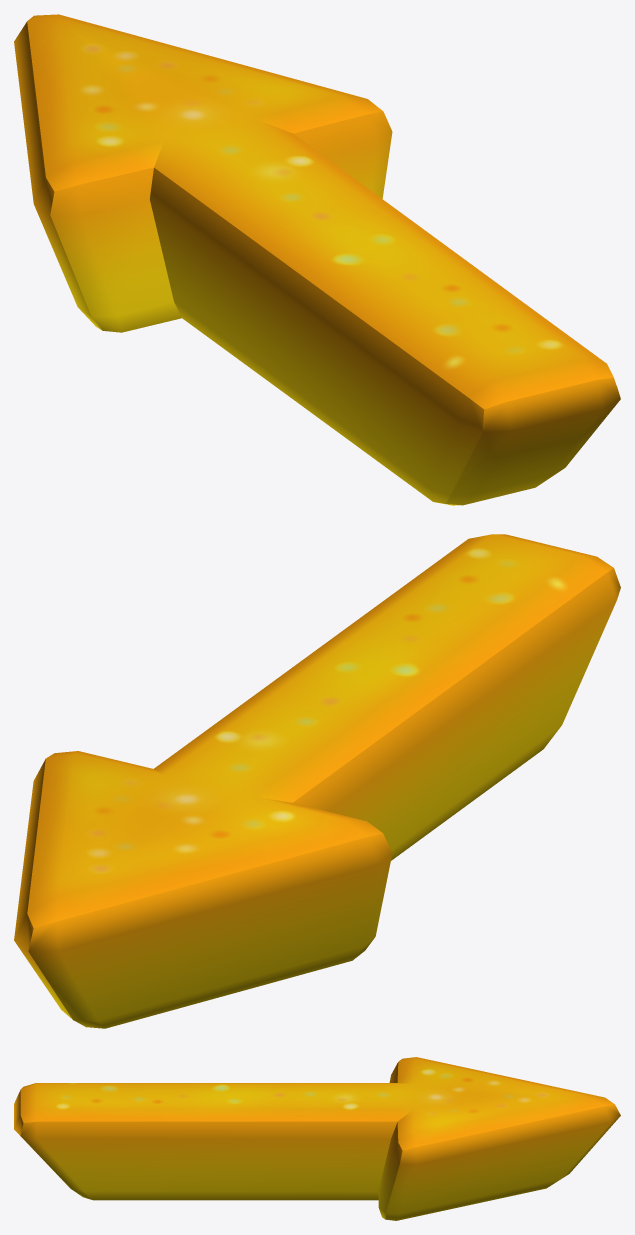
File: yazirushi_06.fbx
3 renders of one model, top to bottom at view 1: azimuth 30°, elevation 25°; view 2: azimuth 150°, elevation 25°; view 3: azimuth 270°, elevation 25°, orthographic. The views are drawn at different scales.
Parts seen in each view (by area): view 1: yazirusi9; view 2: yazirusi9; view 3: yazirusi9.
Boxes of the visible parts, x1,y1,x2,y2 form: yazirusi9: [14, 14, 620, 505]; yazirusi9: [14, 534, 620, 1028]; yazirusi9: [14, 1057, 620, 1220].
Size of the model in its own units: 2.17 by 0.9804 by 5.78.
